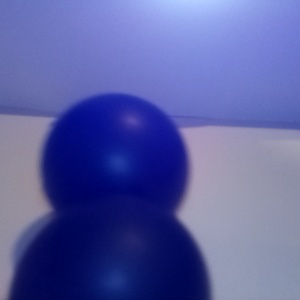dead_ball: (7, 195, 212, 300), (41, 93, 189, 233)
